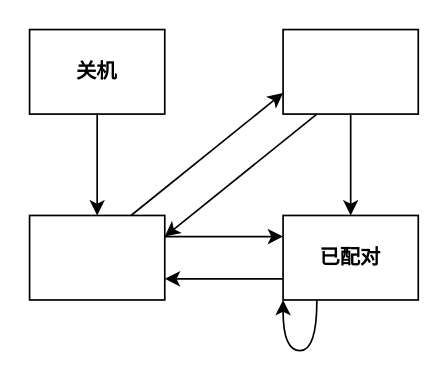
This 448x380 diagram has some shape labels left out. Each missing label, with the centre of its shape:
"未配对" goes at [96,257].
"等待配对" goes at [349,71].
